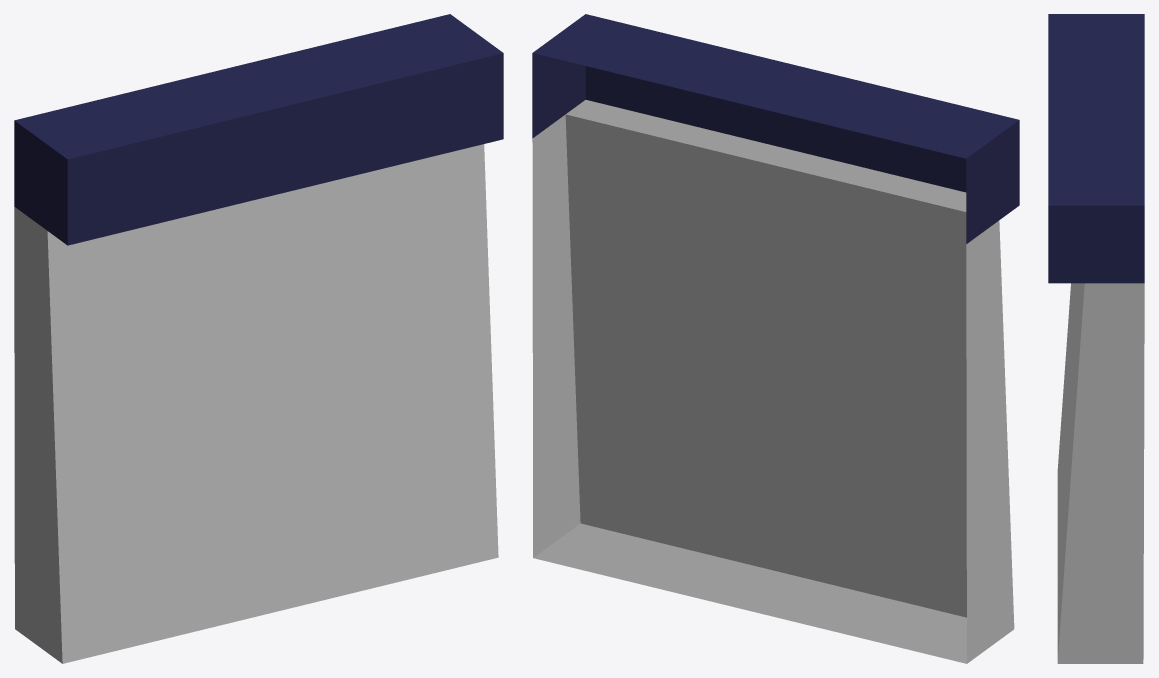
File: Calender_DatumAangever.fbx
3 views of the same model, side by side, from view 1: azimuth 30°, elevation 25°; view 2: azimuth 150°, elevation 25°; view 3: azimuth 270°, elevation 25° (orthographic). The views are drawn at different scales.
Parts seen in each view (by area): view 1: Callender; view 2: Callender; view 3: Callender.
Part boxes in pixels (x1,y1,x2,y2): Callender: (14, 14, 503, 663); Callender: (532, 14, 1019, 663); Callender: (1048, 14, 1144, 663).
Size of the model in its own units: 1.22 by 1.35 by 0.2581.
